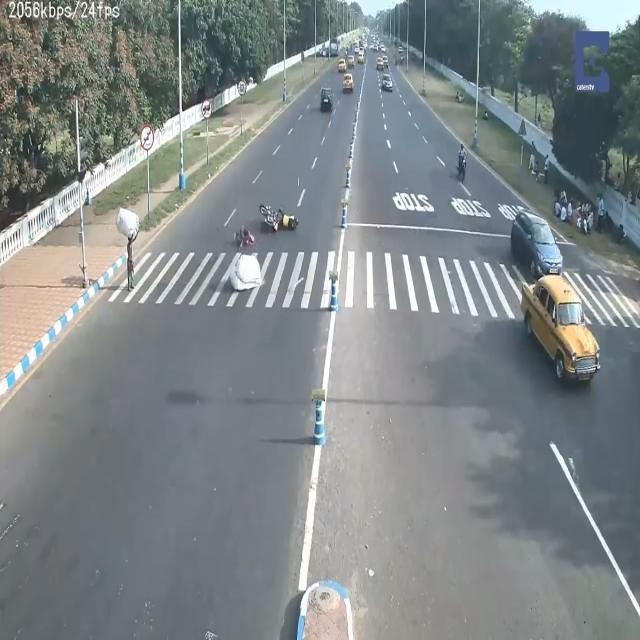accident: (254, 203, 303, 237), (229, 220, 256, 249)
